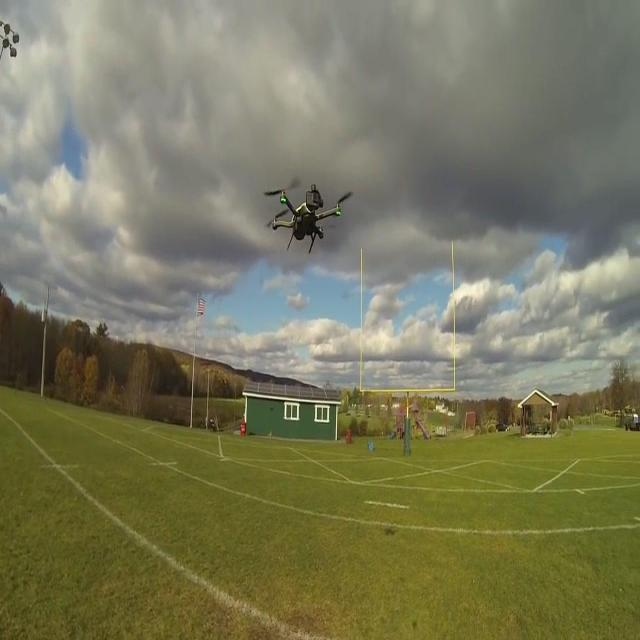drone: (270, 180, 346, 260)
